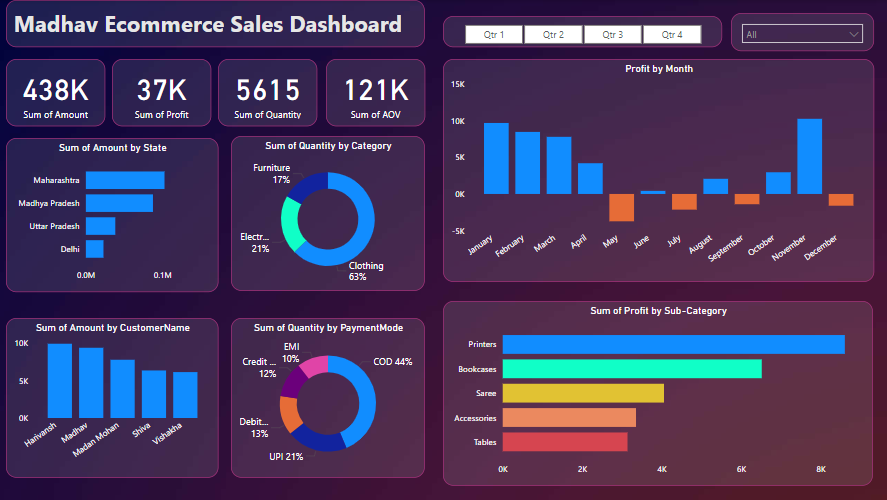

Layout of this report page (visuals, bound fields, positions):
{"tool":"powerbi","page":{"name":"Page 1","canvas":[1280,720],"ordinal":0},"visuals":[{"type":"textbox","box":[10.1,0,603.4,67.7],"z":0},{"type":"columnChart","title":"Profit by Month","fields":{"Category":["Orders.Order Date.Variation.Date Hierarchy.Month"],"Y":["Details.Profit"]},"box":[639.4,85,620.6,321.1],"z":1000},{"type":"barChart","fields":{"Category":["Details.Sub-Category"],"Y":["Details.Profit"]},"box":[639.4,433.4,619.2,266.4],"z":2000},{"type":"donutChart","fields":{"Category":["Details.Category"],"Y":["Details.Quantity"]},"box":[334.3,196.5,278.8,223.4],"z":3000},{"type":"donutChart","fields":{"Category":["Details.PaymentMode"],"Y":["Details.Quantity"]},"box":[334.1,457.9,279.4,230.4],"z":4000},{"type":"card","fields":{"Values":["Details.Amount"]},"box":[10.1,85.7,142.8,97.4],"z":5000},{"type":"card","fields":{"Values":["Details.Profit"]},"box":[162.9,85.7,142.8,97.4],"z":6000},{"type":"card","fields":{"Values":["Details.Quantity"]},"box":[315.8,85.7,142.8,97.4],"z":7000},{"type":"card","fields":{"Values":["Details.AOV"]},"box":[470.3,85.7,142.8,97.4],"z":8000},{"type":"barChart","fields":{"Category":["Orders.State"],"Y":["Details.Amount"]},"box":[10.1,198.2,305.7,221.7],"z":9000},{"type":"columnChart","fields":{"Category":["Orders.CustomerName"],"Y":["Details.Amount"]},"box":[10,458,306,230],"z":10000},{"type":"slicer","fields":{"Values":["Orders.Order Date.Variation.Date Hierarchy.Quarter"]},"box":[639.4,23,401.8,44.6],"z":11000},{"type":"slicer","fields":{"Values":["Orders.State"]},"box":[1054.1,18.7,205.9,54.7],"z":11001}]}

Visuals, with their boxes in screenshot pixels (x1, y1, x2, y2), scaled from the page's 1280x720 canvas onto the 887x500 screenshot:
textbox: (7, 0, 425, 47)
"Profit by Month" columnChart: (443, 59, 873, 282)
barChart - Details.Sub-Category x Details.Profit: (443, 301, 872, 486)
donutChart - Details.Category x Details.Quantity: (232, 136, 425, 292)
donutChart - Details.PaymentMode x Details.Quantity: (232, 318, 425, 478)
card - Details.Amount: (7, 60, 106, 127)
card - Details.Profit: (113, 60, 212, 127)
card - Details.Quantity: (219, 60, 318, 127)
card - Details.AOV: (326, 60, 425, 127)
barChart - Orders.State x Details.Amount: (7, 138, 219, 292)
columnChart - Orders.CustomerName x Details.Amount: (7, 318, 219, 478)
slicer - Orders.Order Date.Variation.Date Hierarchy.Quarter: (443, 16, 722, 47)
slicer - Orders.State: (730, 13, 873, 51)
